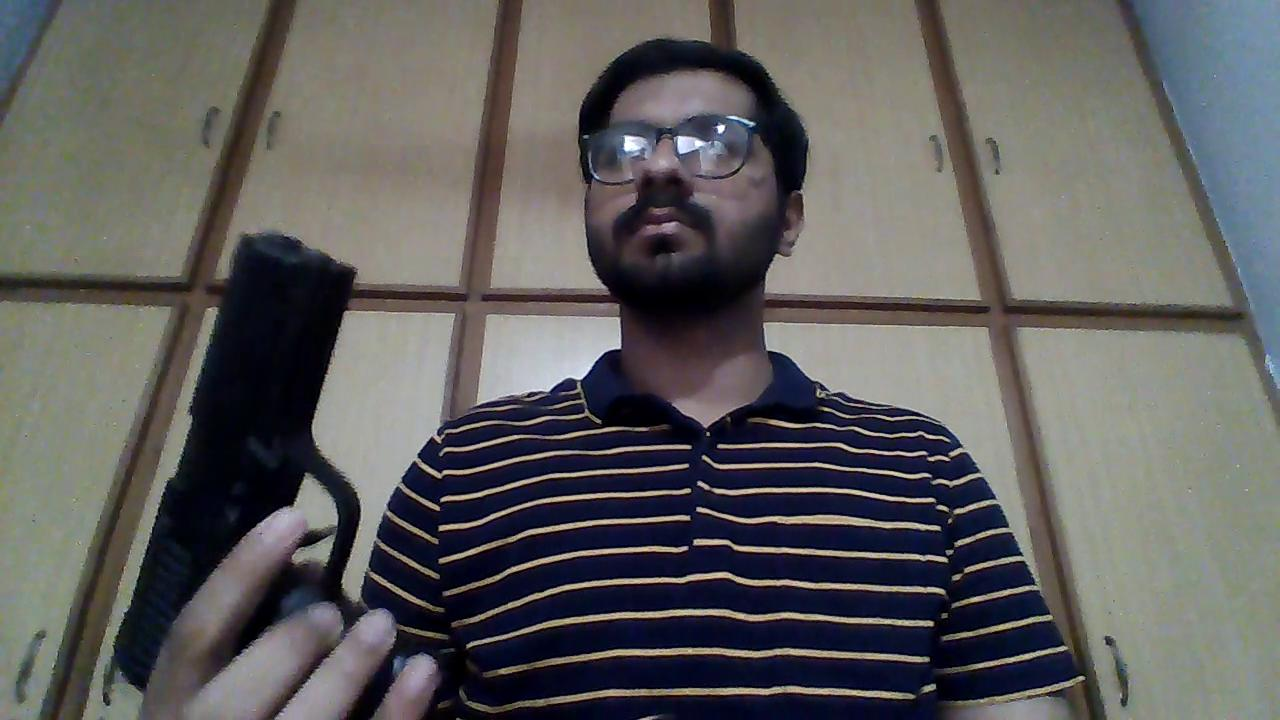criminal: (110, 35, 1090, 720)
weapon: (113, 226, 406, 706)
